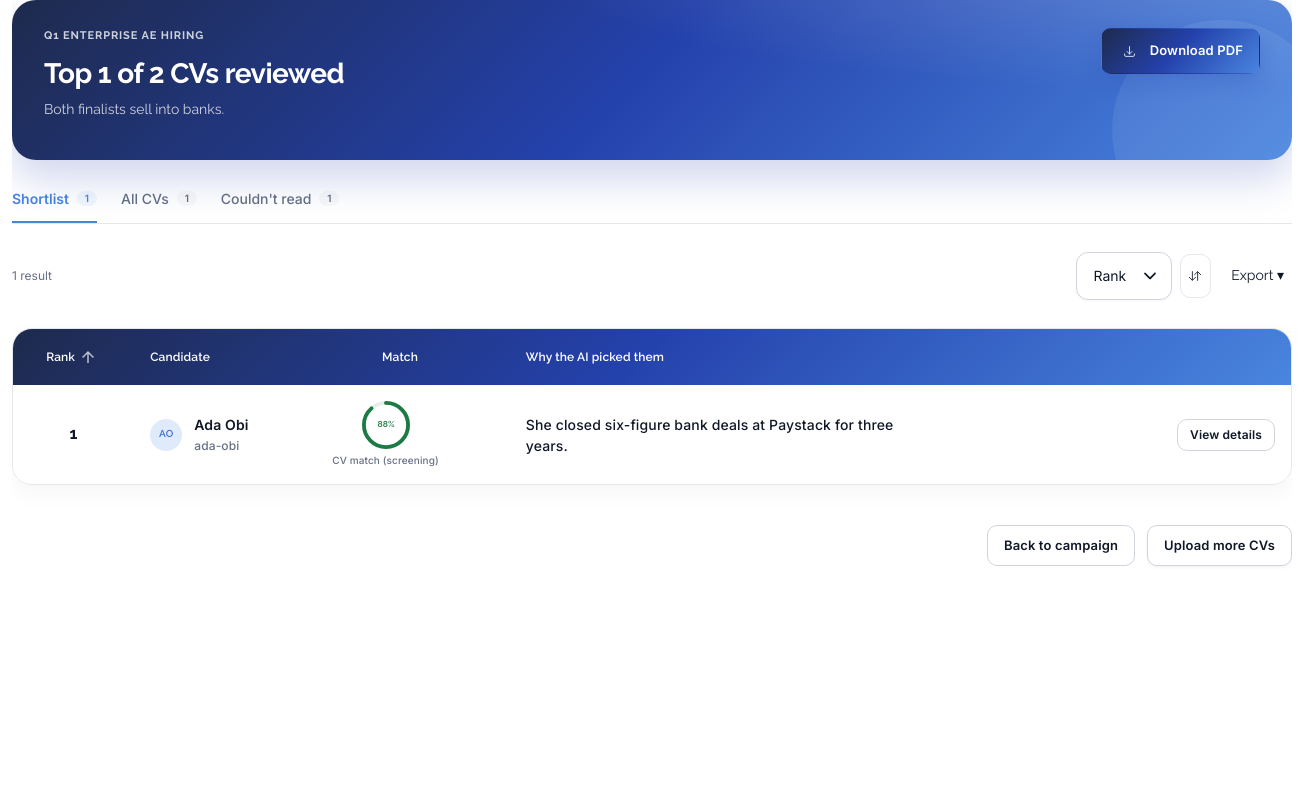
RunResults unreadable CVs › lists them with their reason on their own tab, never silently dropped
The image size is (1304, 800).
Step 1. Click the tab "Couldn't read 1" → (280, 199), box [221,176,339,222]
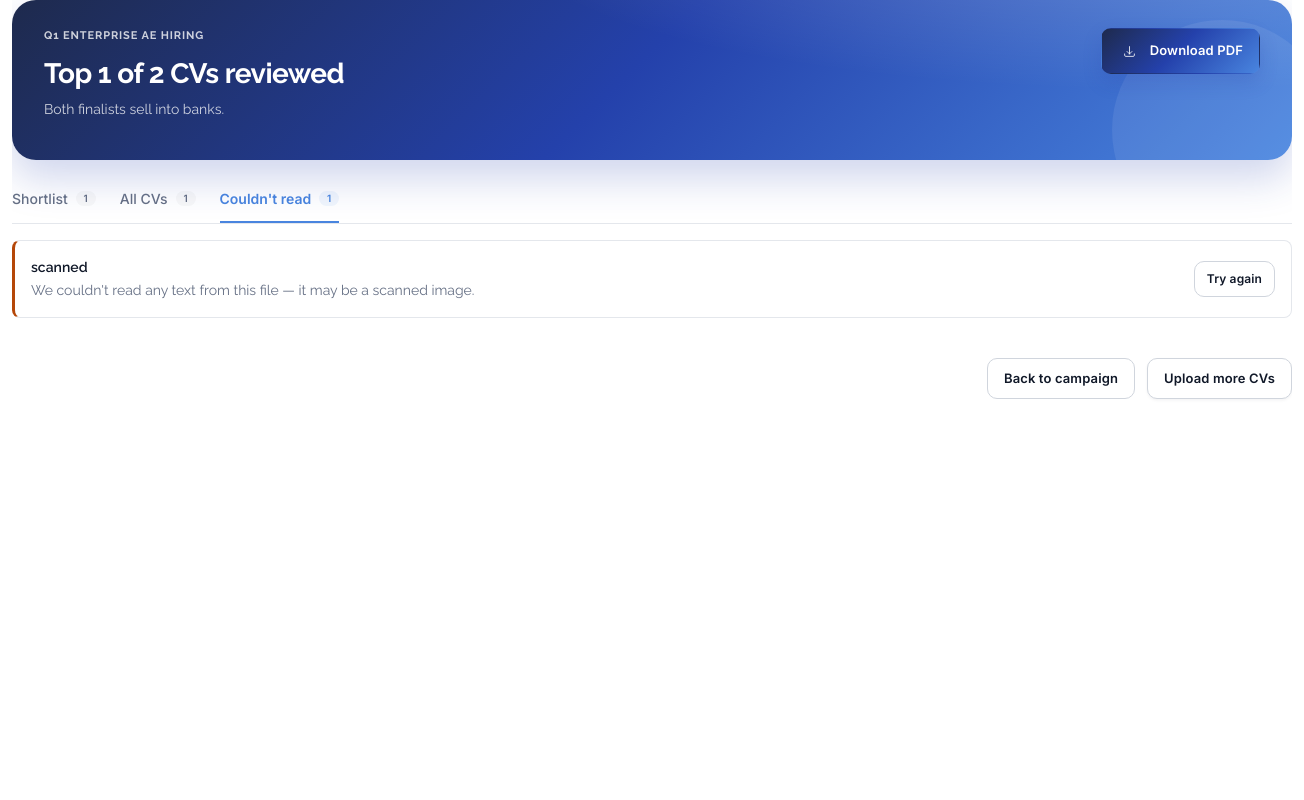
Now the text "scanned" is shown, box [31,258,88,274]
Now the text "scanned image" is shown, box [31,282,474,298]
